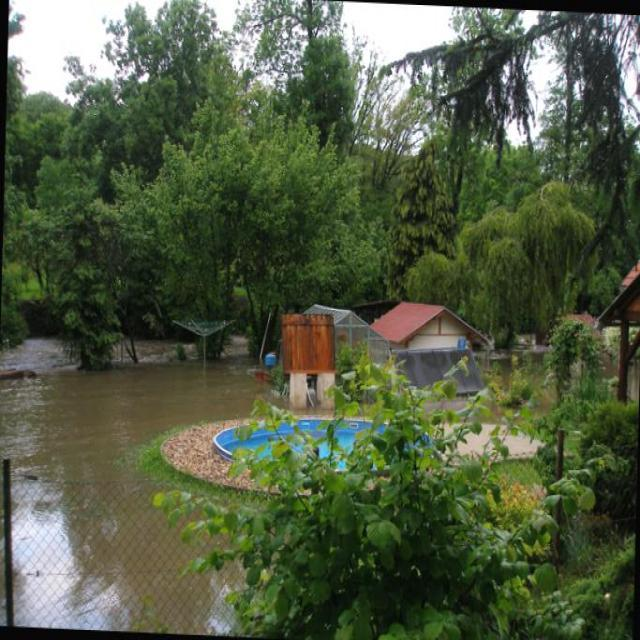flood: (0, 325, 300, 639)
